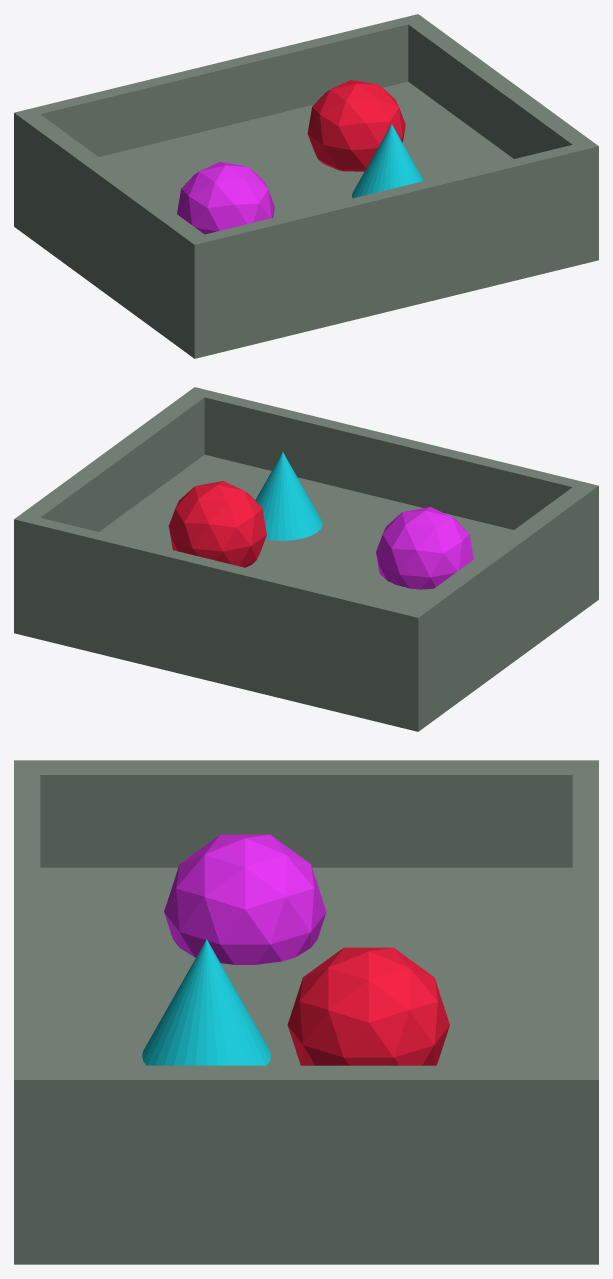
The model's file is SortSamples.fbx.
3 views of the same model, one above another, from view 1: azimuth 30°, elevation 25°; view 2: azimuth 150°, elevation 25°; view 3: azimuth 270°, elevation 25° (orthographic). The views are drawn at different scales.
Visible parts, largest first — view 1: SortSamples; view 2: SortSamples; view 3: SortSamples.
Part boxes in pixels (x1,y1,x2,y2): SortSamples: (14, 14, 598, 358); SortSamples: (14, 387, 598, 731); SortSamples: (14, 760, 598, 1264).
Bounding box in the file's own units: 81.04 × 24.72 × 62.72.
